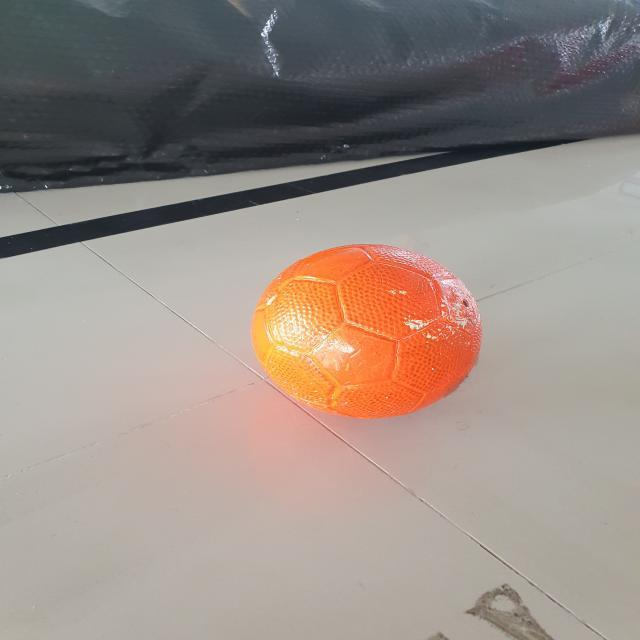bola: (218, 232, 512, 428)
